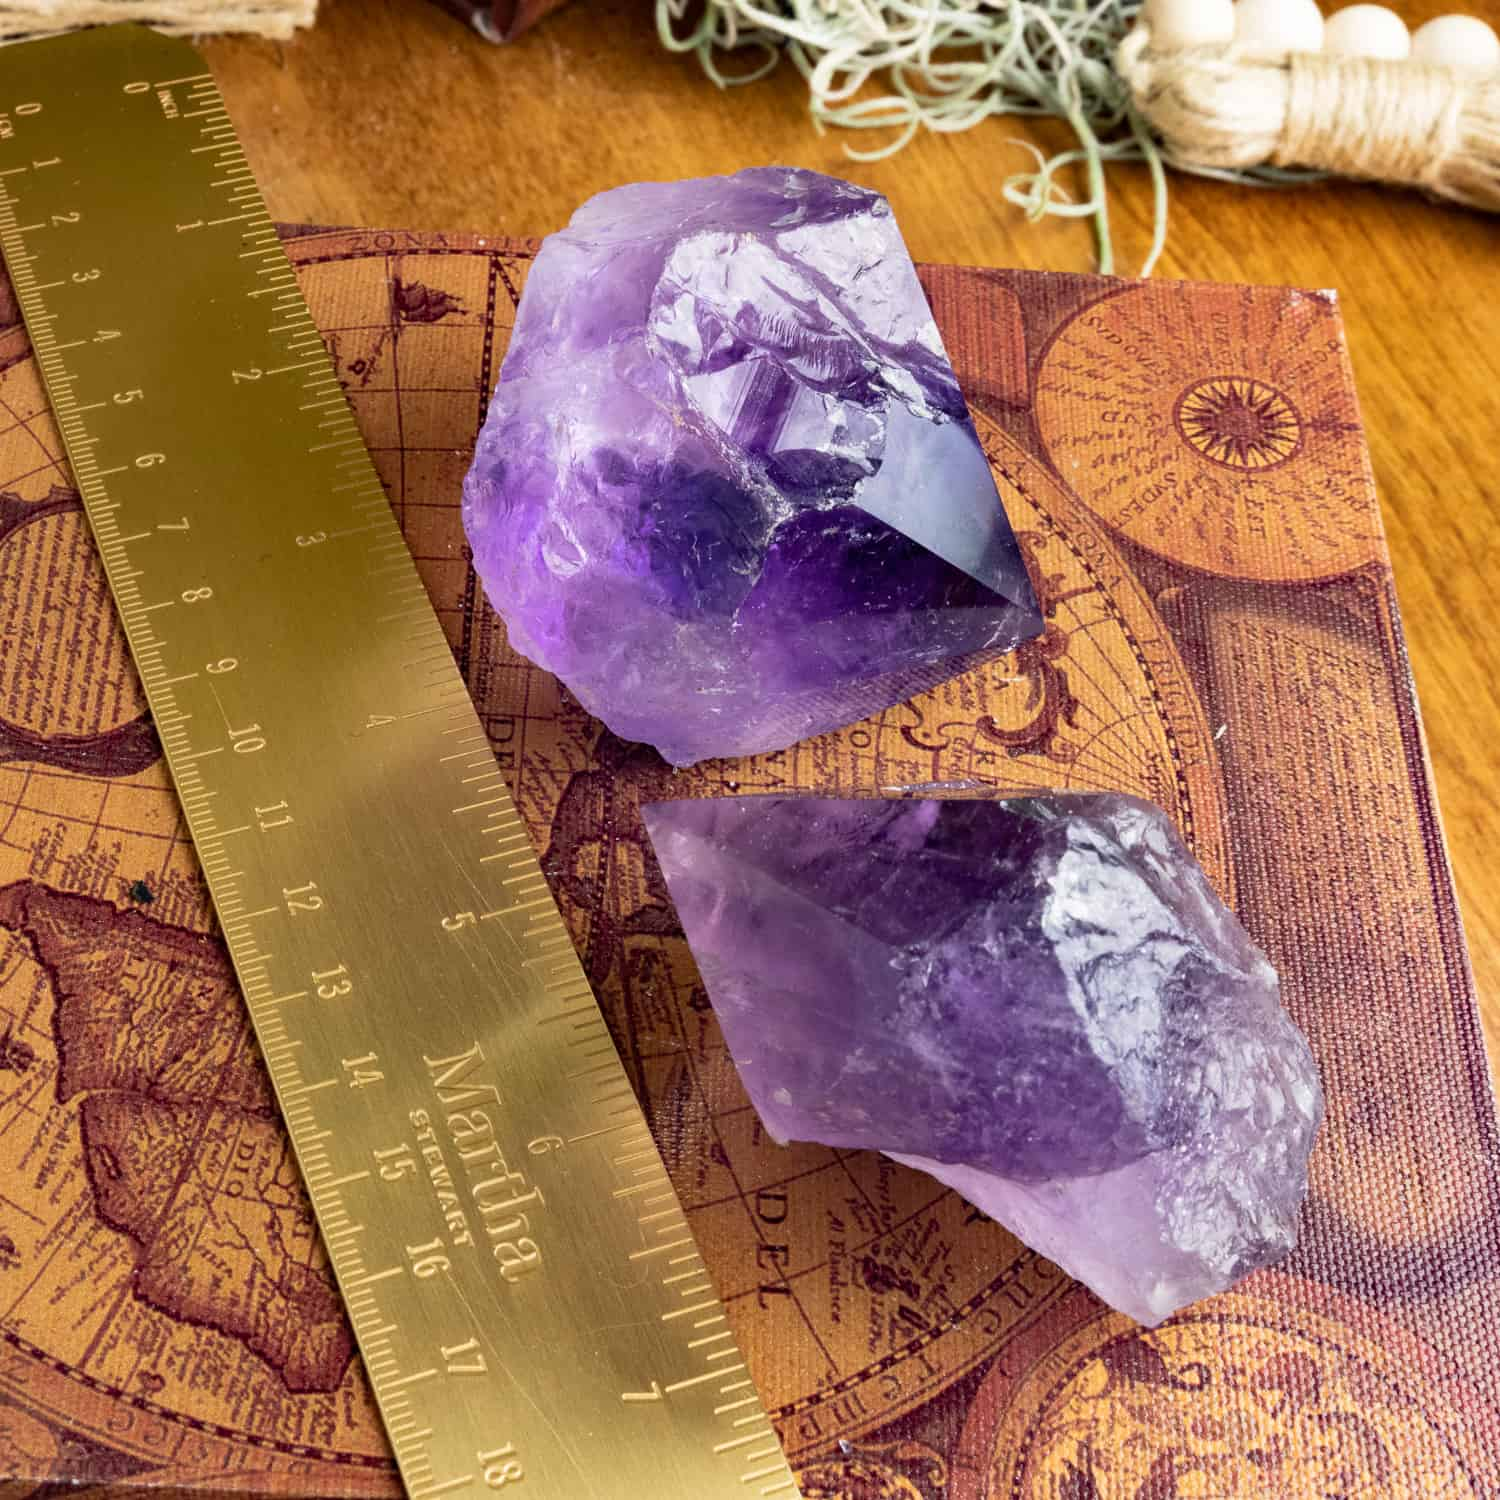Amethyst: (624, 787, 1328, 1338), (457, 159, 1043, 769)
